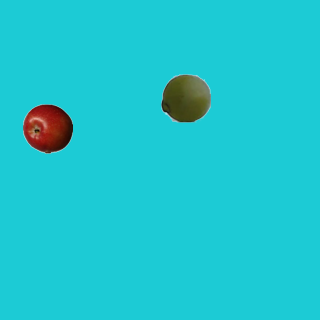Apple Braeburn: (22, 103, 72, 153)
Grape White 4: (160, 72, 210, 122)
